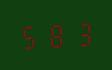eight: (44, 20, 68, 49)
five: (18, 21, 42, 50)
three: (69, 19, 93, 48)
